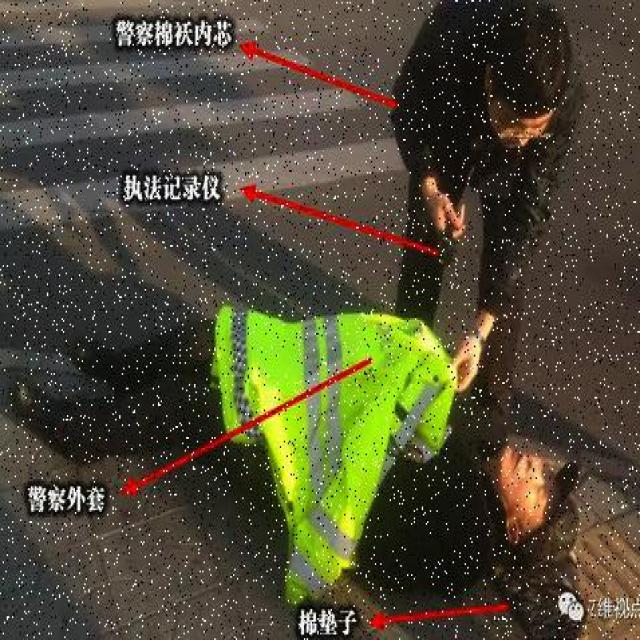fall: (37, 329, 549, 594)
